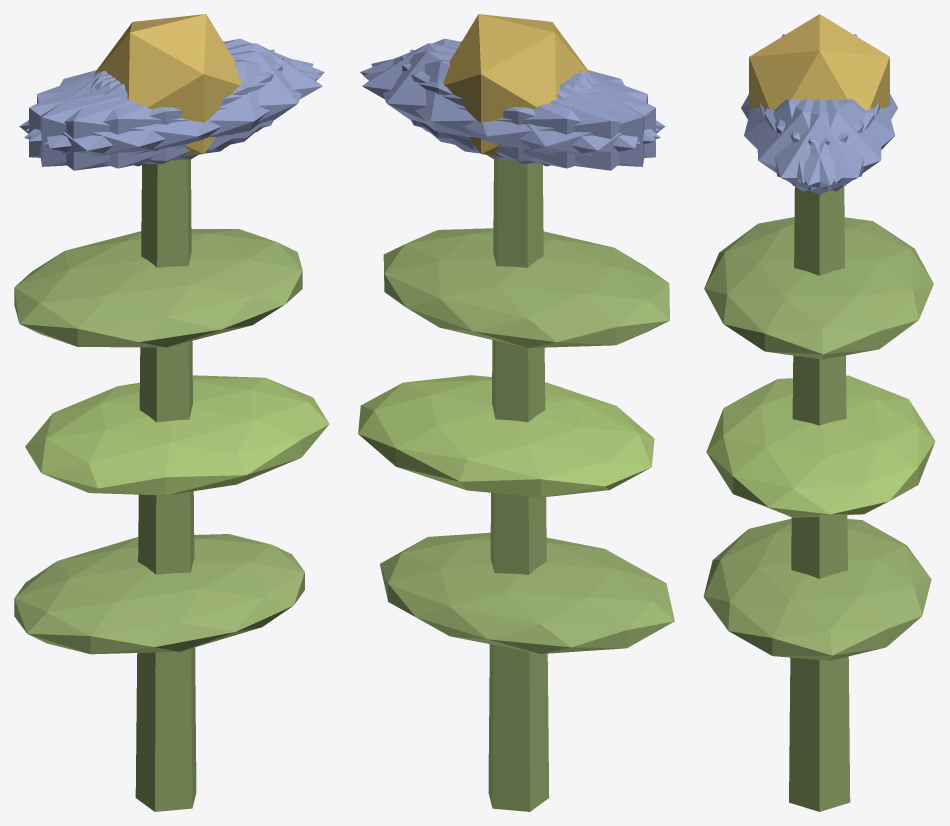
The model's file is tacca-leontopetaloides.glb.
3 views of the same model, side by side, from view 1: azimuth 30°, elevation 25°; view 2: azimuth 150°, elevation 25°; view 3: azimuth 270°, elevation 25° (orthographic).
Parts seen in each view (by area): view 1: leaf2, leaf1, leaf0, stem, center, petal1, petal6, petal2, petal5, petal7, petal0, petal4 (+2 smaller); view 2: leaf1, leaf2, leaf0, stem, center, petal8, petal3, petal7, petal4, petal2, petal0, petal5 (+2 smaller); view 3: leaf1, leaf2, leaf0, stem, center, petal0, petal5, petal4, petal8, petal1.
Boxes of the visible parts, x1,y1,x2,y2 form: leaf2: [14, 229, 302, 347]; leaf1: [25, 375, 329, 495]; leaf0: [14, 534, 304, 654]; stem: [135, 159, 196, 811]; center: [94, 14, 241, 156]; petal1: [24, 59, 321, 168]; petal6: [19, 72, 234, 170]; petal2: [40, 49, 274, 166]; petal5: [44, 50, 313, 160]; petal7: [29, 56, 283, 164]; petal0: [94, 43, 322, 150]; petal4: [25, 38, 324, 141]; leaf1: [358, 375, 654, 497]; leaf2: [383, 228, 669, 347]; leaf0: [380, 532, 674, 653]; stem: [488, 159, 549, 811]; center: [443, 14, 590, 156]; petal8: [363, 59, 660, 168]; petal3: [450, 72, 665, 170]; petal7: [410, 49, 644, 166]; petal4: [371, 50, 640, 160]; petal2: [401, 56, 655, 164]; petal0: [362, 43, 590, 150]; petal5: [360, 38, 659, 141]; leaf1: [706, 375, 935, 517]; leaf2: [704, 217, 933, 359]; leaf0: [703, 518, 931, 660]; stem: [789, 186, 850, 811]; center: [749, 14, 889, 110]; petal0: [759, 99, 879, 194]; petal5: [757, 99, 874, 191]; petal4: [764, 99, 881, 191]; petal8: [775, 98, 895, 182]; petal1: [744, 98, 863, 182].
Bounding box in the file's own units: 0.1498 × 0.3675 × 0.1009.
